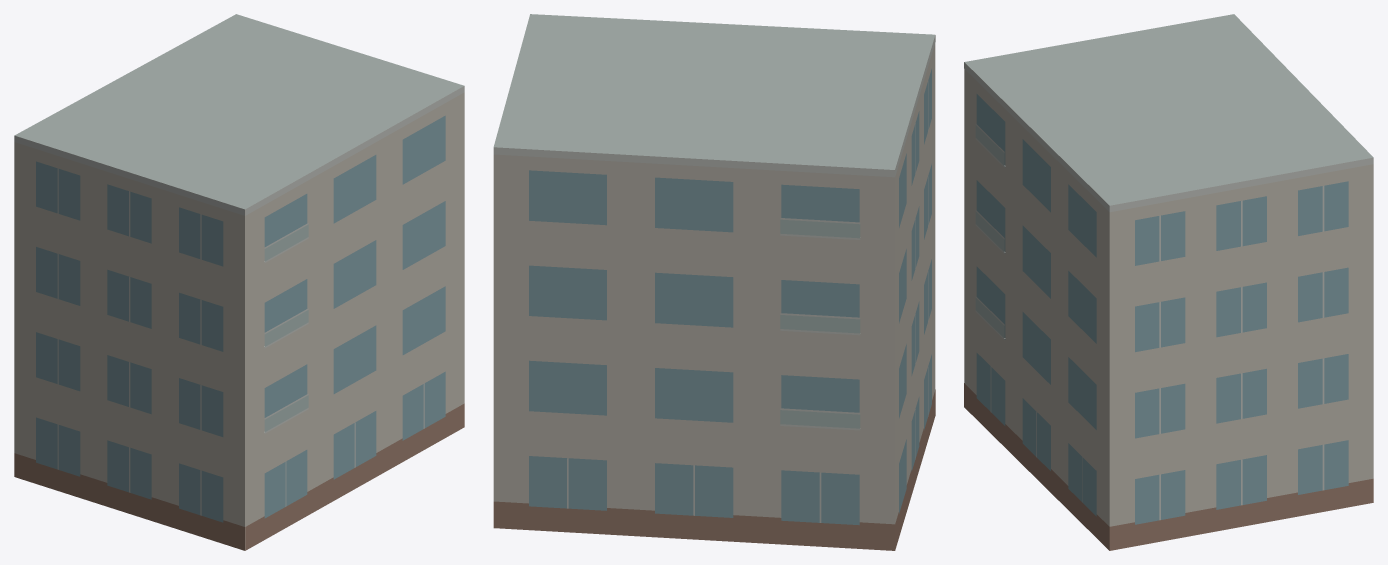
The model's file is survey-upis-32864537.glb.
The picture shows the model from 3 angles, left to right: view 1: azimuth 30°, elevation 25°; view 2: azimuth 150°, elevation 25°; view 3: azimuth 270°, elevation 25°; orthographic projection. The views are drawn at different scales.
Visible parts, largest first — view 1: survey-upis-32864537.tmp; view 2: survey-upis-32864537.tmp; view 3: survey-upis-32864537.tmp.
Part boxes in pixels (x1,y1,x2,y2): survey-upis-32864537.tmp: (14,14,464,550); survey-upis-32864537.tmp: (493,14,935,550); survey-upis-32864537.tmp: (964,14,1373,550).
Bounding box in the file's own units: 15.32 × 12.85 × 13.83.
